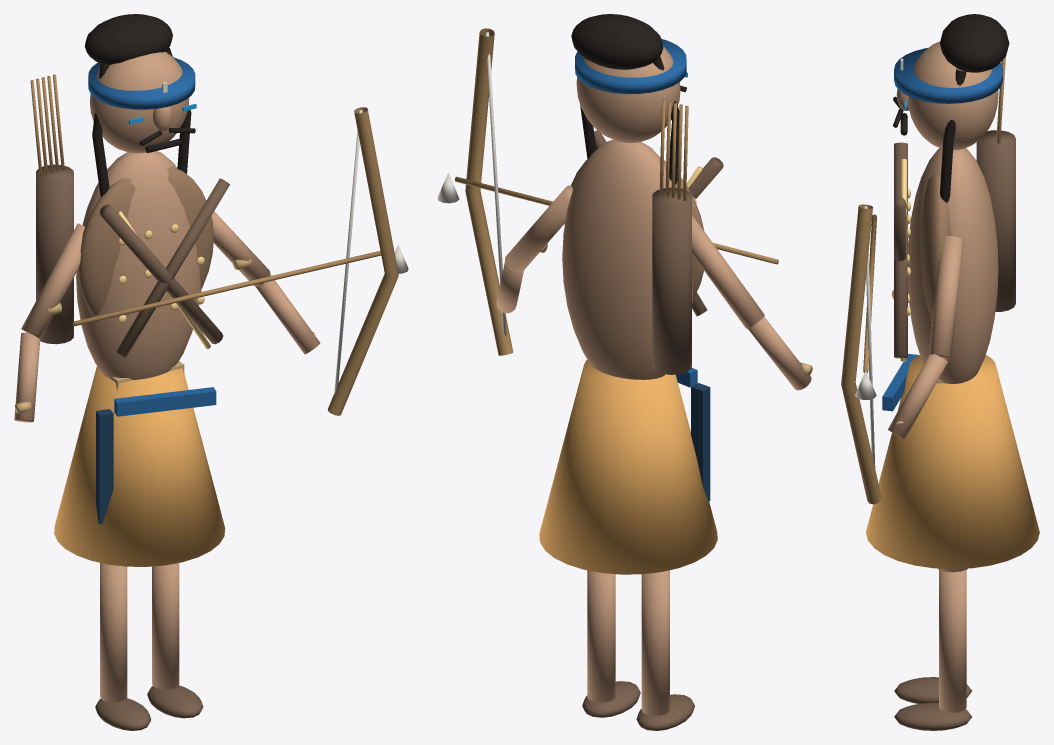
The model's file is pandava-foot-archer.glb.
3 views of the same model, side by side, from view 1: azimuth 30°, elevation 25°; view 2: azimuth 150°, elevation 25°; view 3: azimuth 270°, elevation 25° (orthographic). The views are drawn at different scales.
Parts seen in each view (by area): view 1: layered dhoti cloth, torso muscle shape, chest leather armor, head, quiver, curved long bow, shin, shin.001, hair bun, front leather harness one, headband, left upper arm (+11 smaller); view 2: layered dhoti cloth, torso muscle shape, quiver, head, curved long bow, shin, hair bun, shin.001, left upper arm, headband, right upper arm, side shoulder-color cloth drape (+8 smaller); view 3: layered dhoti cloth, torso muscle shape, head, curved long bow, quiver, shin.001, hair bun, right upper arm, chest leather armor, headband, front leather harness one, right forearm (+8 smaller).
Boxes of the visible parts, bbox=[...] form: layered dhoti cloth: bbox=[54, 366, 225, 566]; torso muscle shape: bbox=[76, 151, 201, 379]; chest leather armor: bbox=[78, 166, 213, 314]; head: bbox=[90, 51, 189, 153]; quiver: bbox=[36, 164, 73, 344]; curved long bow: bbox=[327, 107, 398, 415]; shin: bbox=[100, 563, 127, 702]; shin.001: bbox=[152, 563, 179, 689]; hair bun: bbox=[84, 14, 172, 65]; front leather harness one: bbox=[99, 204, 223, 344]; headband: bbox=[88, 57, 195, 109]; left upper arm: bbox=[21, 223, 84, 338]; layered dhoti cloth: bbox=[539, 359, 717, 574]; torso muscle shape: bbox=[562, 139, 692, 379]; quiver: bbox=[652, 187, 691, 374]; head: bbox=[576, 46, 680, 142]; curved long bow: bbox=[465, 28, 513, 355]; shin: bbox=[641, 570, 669, 715]; hair bun: bbox=[571, 14, 663, 69]; shin.001: bbox=[587, 570, 615, 702]; left upper arm: bbox=[692, 215, 764, 328]; headband: bbox=[575, 39, 686, 94]; right upper arm: bbox=[505, 185, 572, 272]; side shoulder-color cloth drape: bbox=[691, 383, 710, 501]; layered dhoti cloth: bbox=[866, 355, 1039, 569]; torso muscle shape: bbox=[907, 148, 998, 383]; head: bbox=[908, 41, 998, 150]; curved long bow: bbox=[841, 204, 881, 504]; quiver: bbox=[976, 130, 1015, 311]; shin.001: bbox=[939, 570, 966, 712]; hair bun: bbox=[940, 14, 1009, 72]; right upper arm: bbox=[928, 236, 963, 359]; chest leather armor: bbox=[920, 173, 951, 318]; headband: bbox=[894, 48, 1002, 103]; front leather harness one: bbox=[894, 142, 907, 358]; right forearm: bbox=[887, 354, 948, 439].
Size of the model in its own units: 1.01 by 1.76 by 0.4567.
